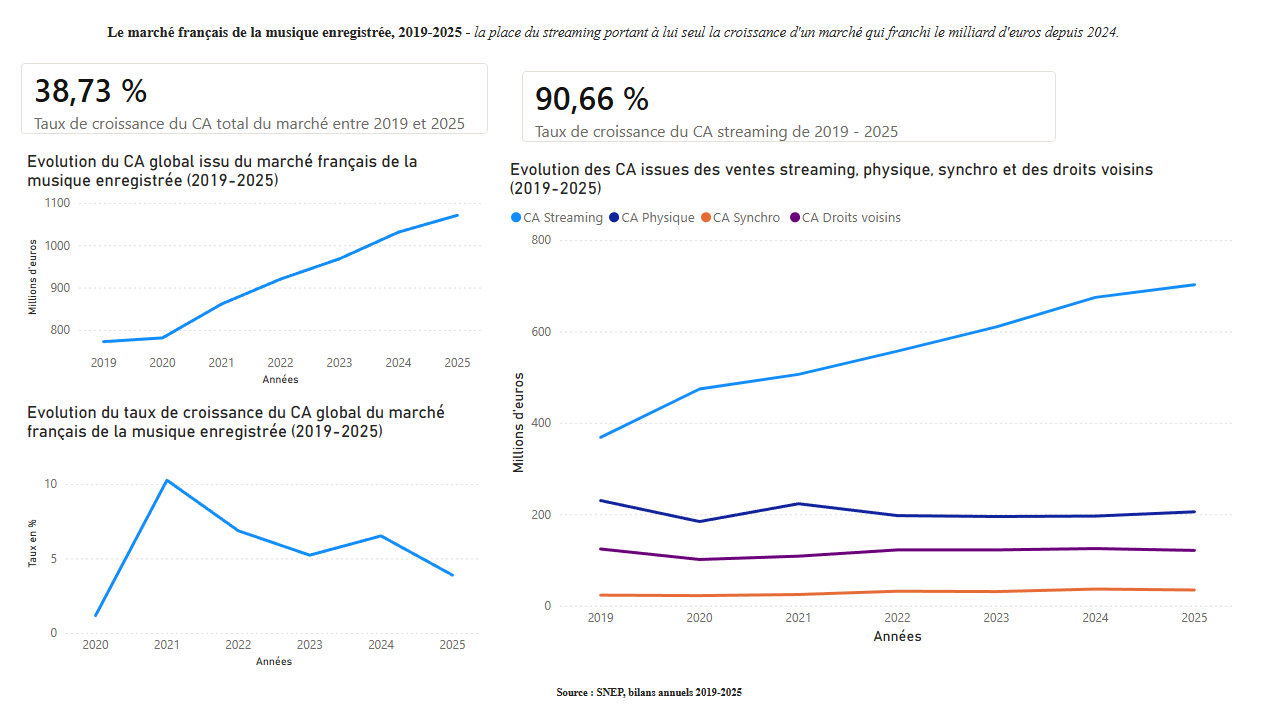

Layout of this report page (visuals, bound fields, positions):
{"tool":"powerbi","page":{"name":"Page 1","canvas":[1280,720],"ordinal":0},"visuals":[{"type":"lineChart","title":"Evolution du CA global issu du marché français de la musique enregistrée (2019-2025)","fields":{"Category":["Sheet1.annee"],"Y":["Sum(Sheet1.ca_total_meur)"]},"box":[21.6,151.4,464.2,239.3],"z":0,"group":"g1"},{"type":"textbox","box":[0,19.5,1280,34.1],"z":1000},{"type":"lineChart","title":"Evolution des CA issues des ventes streaming, physique, synchro et des droits voisins (2019-2025)","fields":{"Category":["Sheet1.annee"],"Y":["Sum(Sheet1.ca_streaming_meur)","Sum(Sheet1.ca_physique_meur)","Sum(Sheet1.ca_synchro_meur)","Sum(Sheet1.ca_droits_voisins_meur)"]},"box":[505.5,159.4,733.9,490],"z":3000,"group":"g1"},{"type":"textbox","box":[0,678,1280,26.7],"z":4000},{"type":"cardVisual","fields":{"Data":["Table 1 (Sheet1).Croissance 2019-2025 en %"]},"box":[4,46.7,501.5,104.7],"z":5000,"group":"g1"},{"type":"lineChart","title":"Evolution du taux de croissance du CA global du marché français de la musique enregistrée (2019-2025)","fields":{"Category":["PROJET SNEP POWER BI.annee"],"Y":["Sum(PROJET SNEP POWER BI.croissance_ca_pct)"]},"box":[21.6,402.7,464.2,270],"z":6000,"group":"g1"},{"type":"cardVisual","fields":{"Data":["Sheet1.taux de croissance du CA streaming de 2019 - 2025"]},"box":[505.5,54.7,567.2,104.7],"z":7000,"group":"g1"},{"type":"group","id":"g1","title":"Groupe 1","box":[4,46.7,1235.4,626],"z":7001}]}

Visuals, with their boxes in screenshot pixels (x1, y1, x2, y2), scaled from the page's 1280x720 canvas onto the 1266x716 screenshot:
"Evolution du CA global issu du marché français de la musique enregistrée (2019-2025)" lineChart: [21, 151, 480, 389]
textbox: [0, 19, 1265, 53]
"Evolution des CA issues des ventes streaming, physique, synchro et des droits voisins (2019-2025)" lineChart: [500, 159, 1226, 646]
textbox: [0, 674, 1265, 701]
cardVisual - Table 1 (Sheet1).Croissance 2019-2025 en %: [4, 46, 500, 151]
"Evolution du taux de croissance du CA global du marché français de la musique enregistrée (2019-2025)" lineChart: [21, 400, 480, 669]
cardVisual - Sheet1.taux de croissance du CA streaming de 2019 - 2025: [500, 54, 1061, 159]
"Groupe 1" group: [4, 46, 1226, 669]
